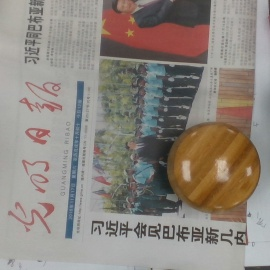chess: (168, 121, 261, 213)
